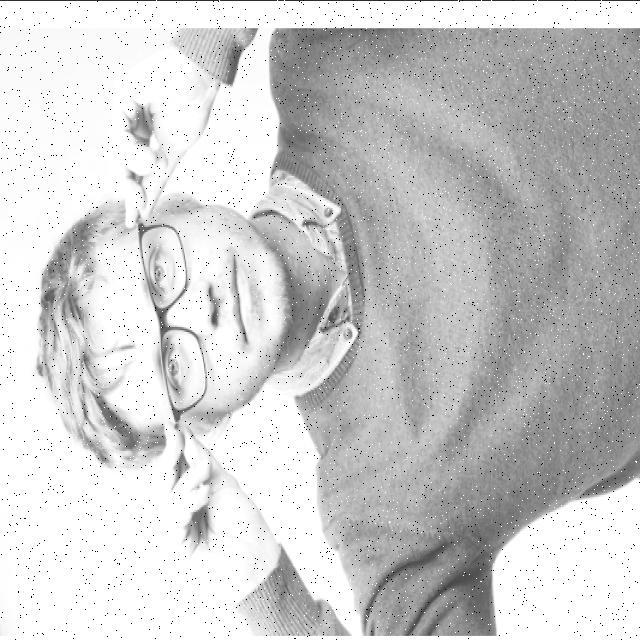face_no_mask: (104, 194, 296, 444)
